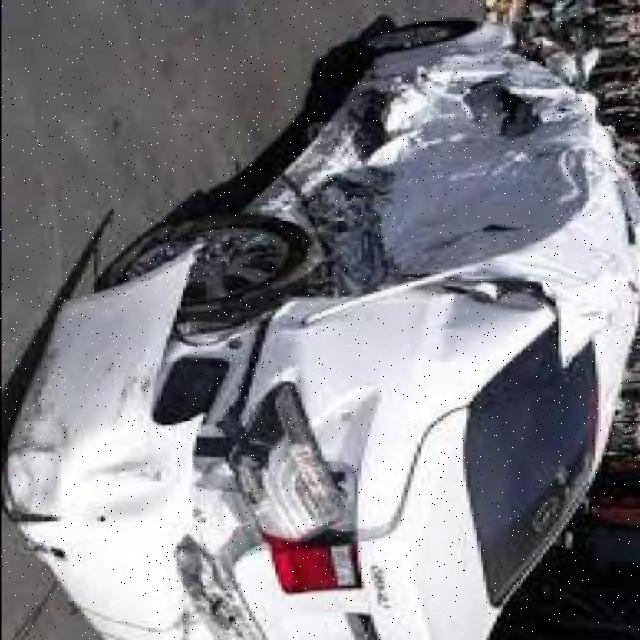damage: (0, 18, 639, 640)
